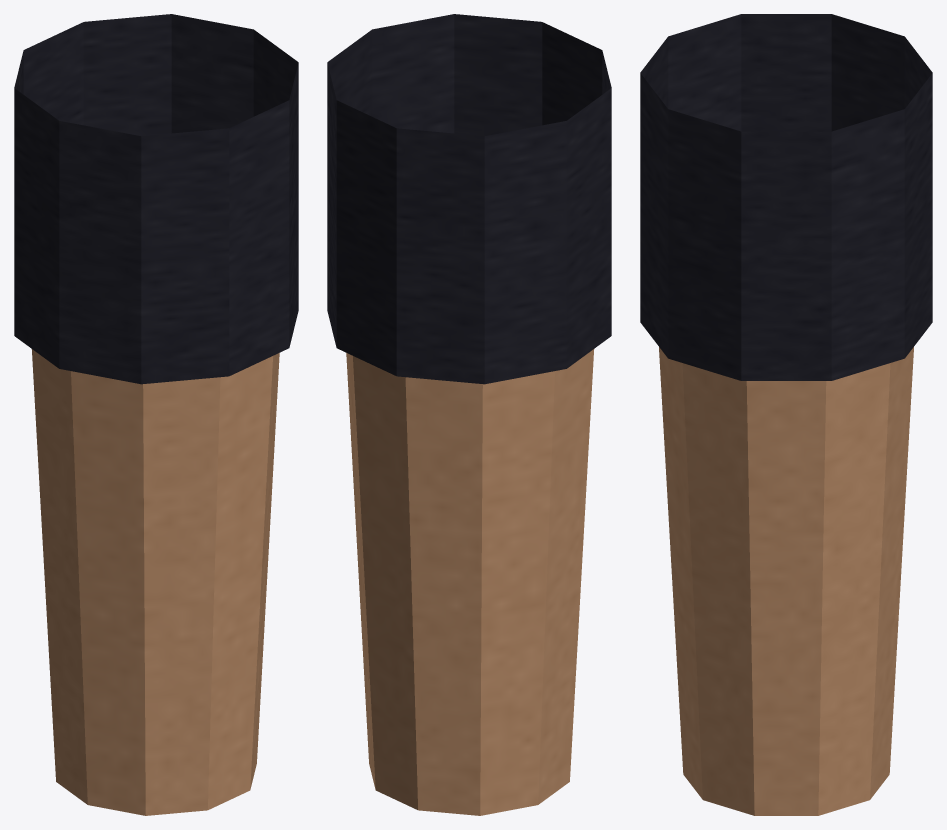
Rendered from JugB_Muslo.obj.
3 views of the same model, side by side, from view 1: azimuth 30°, elevation 25°; view 2: azimuth 150°, elevation 25°; view 3: azimuth 270°, elevation 25° (orthographic).
Bounding box in the file's own units: 0.1617 × 0.45 × 0.17.
Materials: 1 (1 with a texture image).
